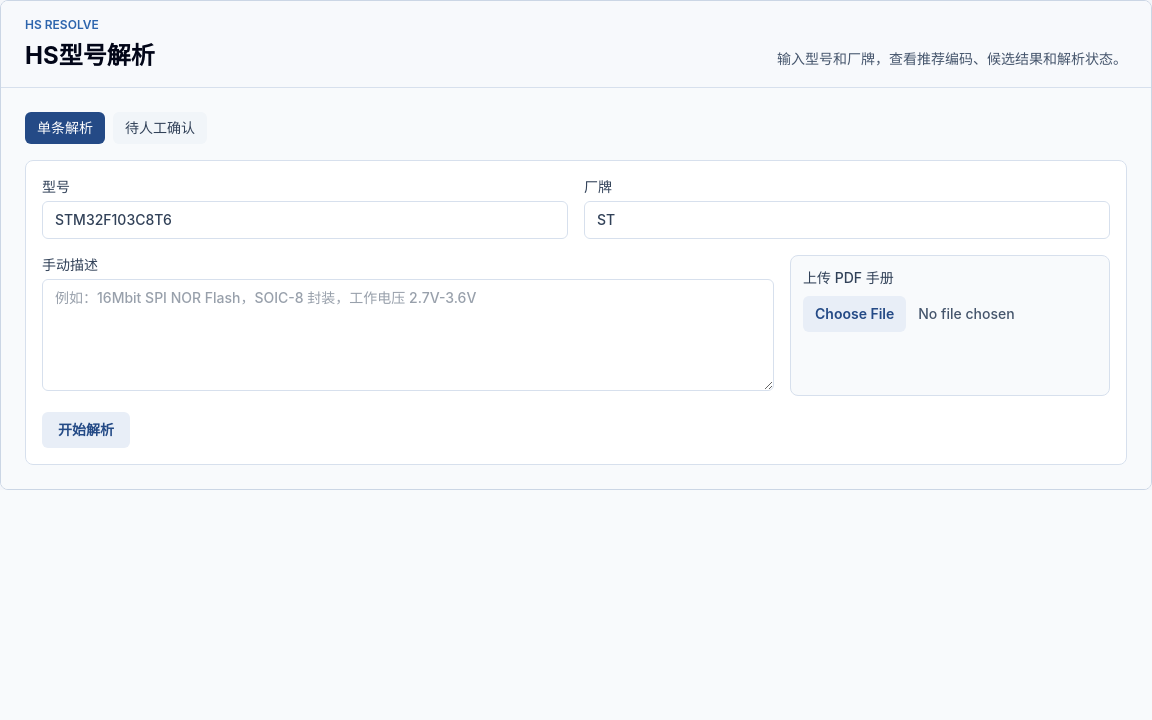
it: HsResolvePage › shows the working resolver UI instead of the old auth placeholder
Expected: the field labelled "型号" holds "STM32F103C8T6", [42,201,568,239]
Expected: the field labelled "厂牌" holds "ST", [584,201,1110,239]
Step 1. Click the button with test id "hs-resolve-submit" → {"x": 86, "y": 430}, box [42,412,130,448]
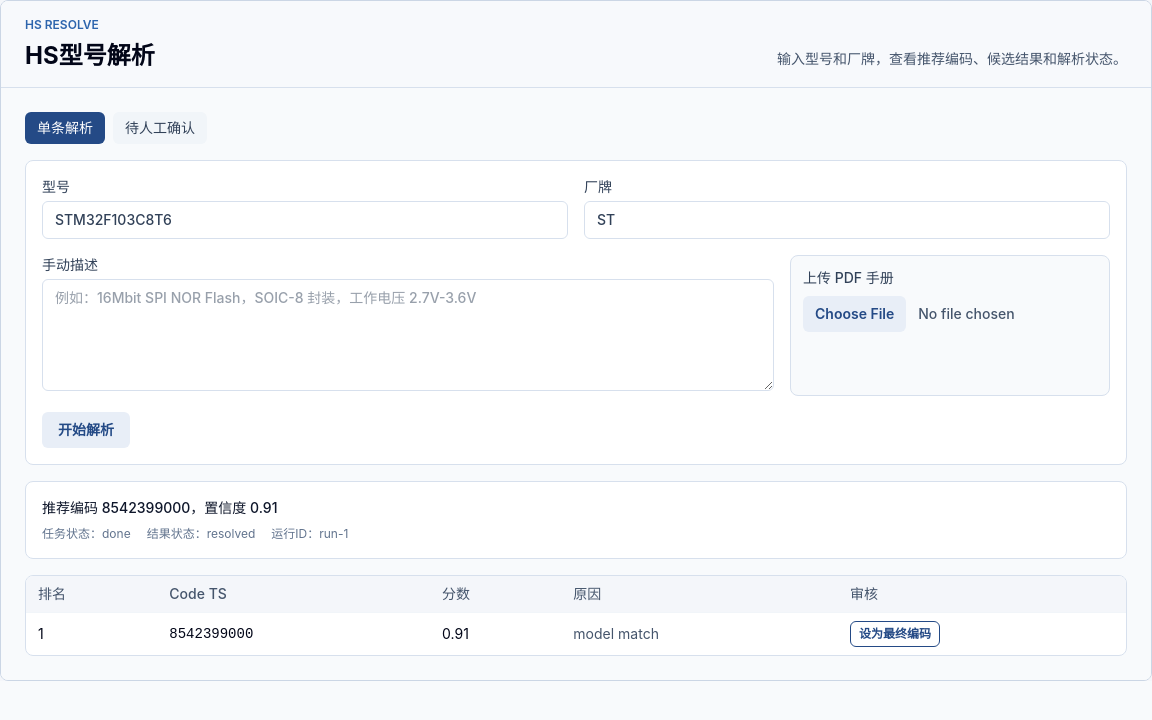
Expected: the text "8542399000" is shown, [157,612,430,655]
